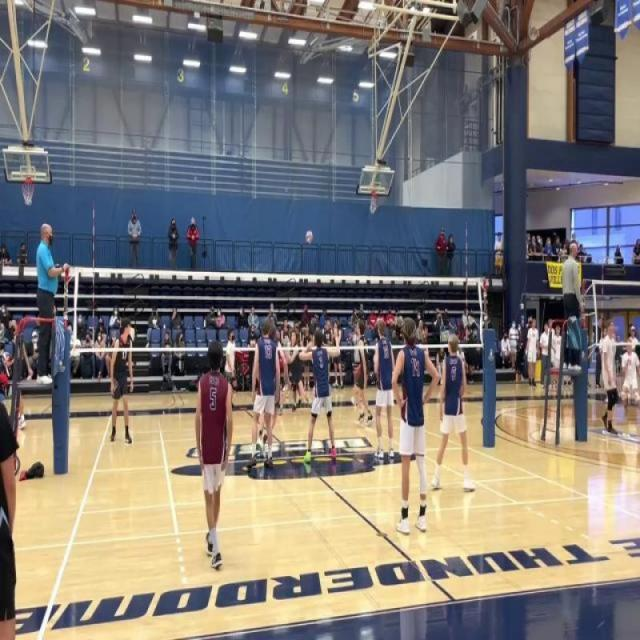volleyball: (1, 350, 10, 366), (305, 229, 313, 244)
